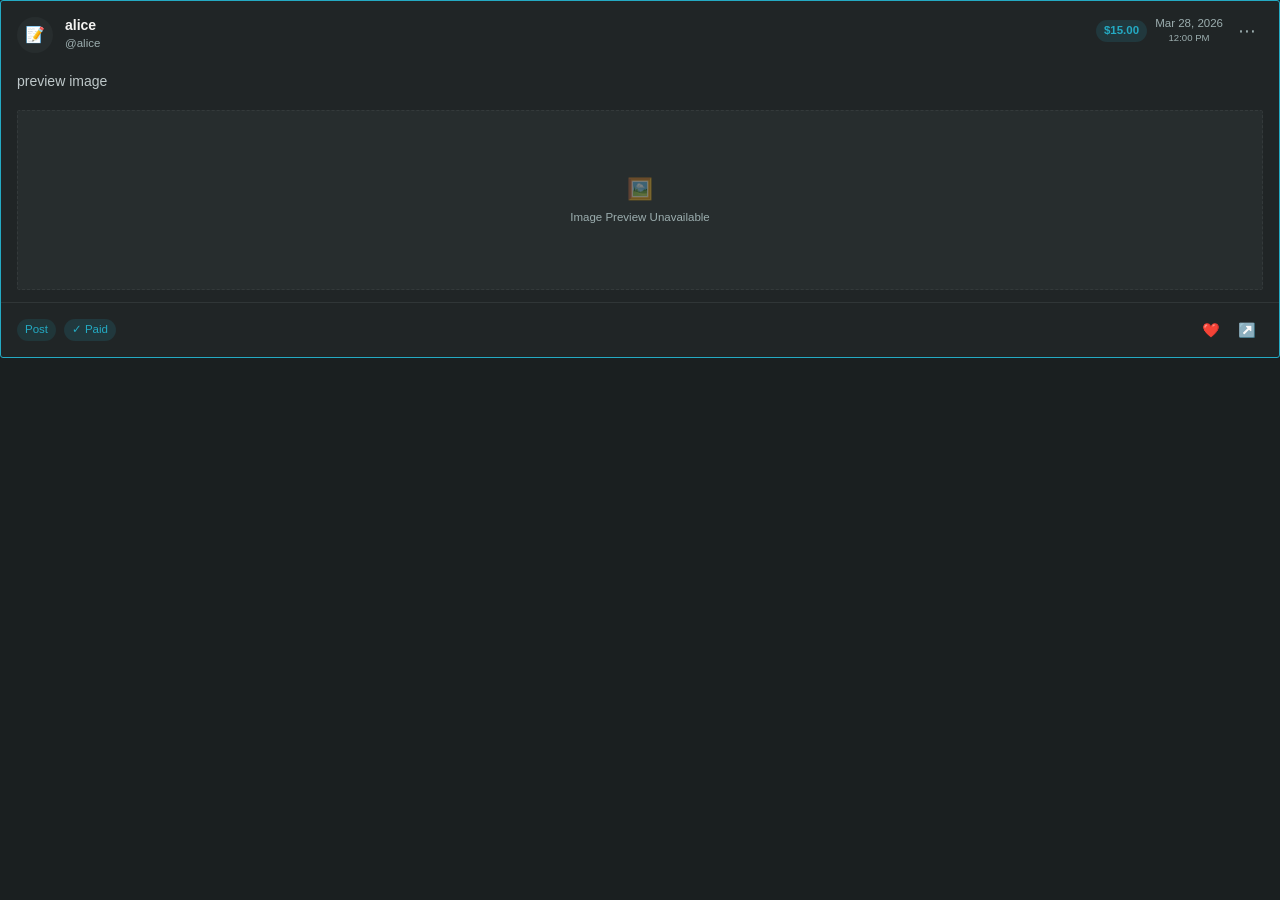
Test: ContentCard › opens preview media in the lightbox when the item is already accessible
What coordinates should you click on to do the following:
click the button with class "content-card-media-item"
I would click on:
 (640, 200)
Its box is left=17, top=110, right=1263, bottom=290.
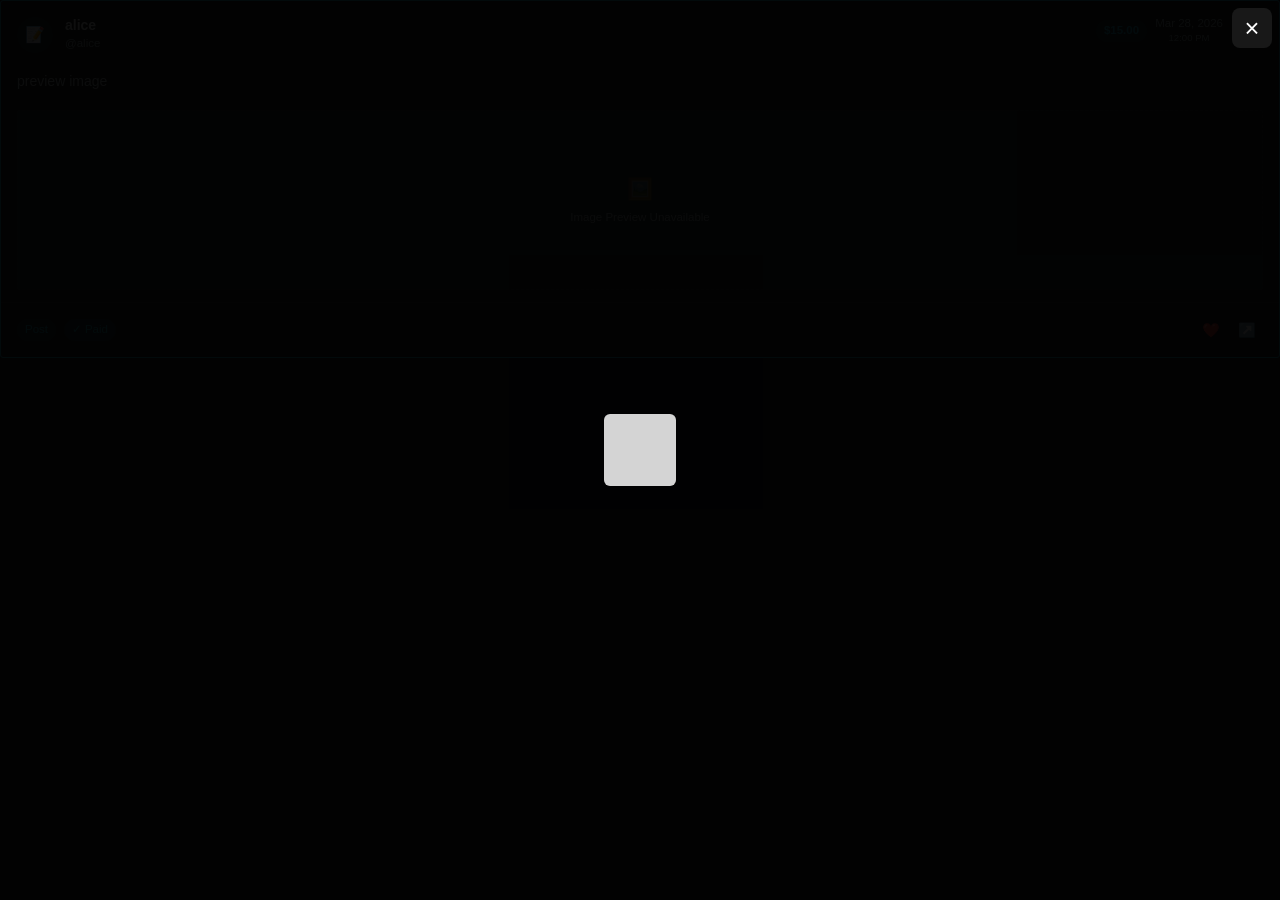
Expected: the element with class "cc-lightbox-overlay" is shown
